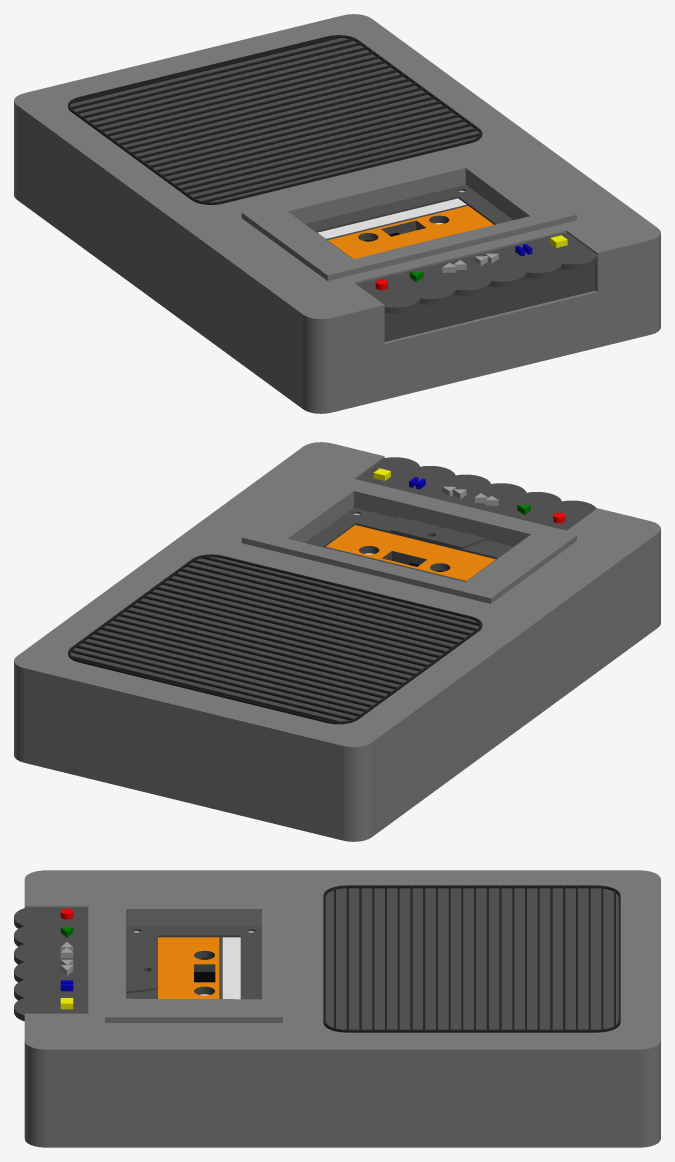
Rendered from CasettePlayer.dae.
3 renders of one model, top to bottom at view 1: azimuth 30°, elevation 25°; view 2: azimuth 150°, elevation 25°; view 3: azimuth 270°, elevation 25°, orthographic. The views are drawn at different scales.
Parts seen in each view (by area): view 1: SketchUp (×32); view 2: SketchUp (×31); view 3: SketchUp (×32).
Boxes of the visible parts, x1,y1,x2,y2 form: SketchUp (×32): [14, 14, 660, 413]; SketchUp (×31): [14, 442, 660, 841]; SketchUp (×32): [14, 870, 660, 1147].
Bounding box in the file's own units: 7.87 × 12.01 × 2.13.
